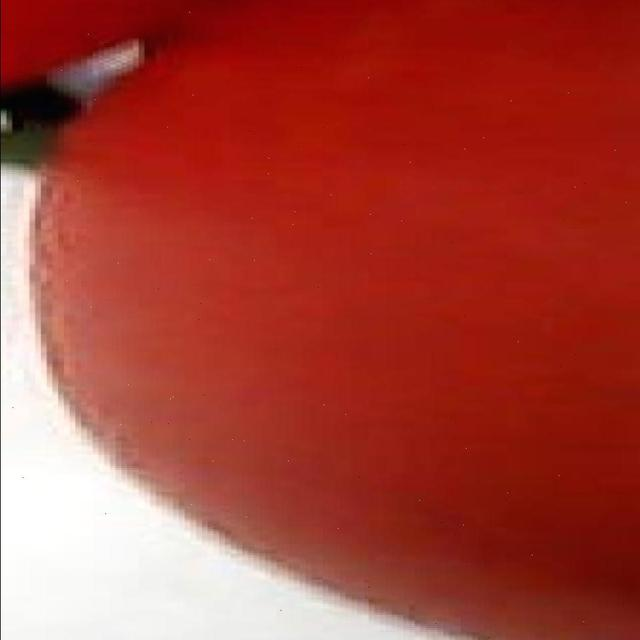Healthy Fruit: (9, 0, 427, 427)
